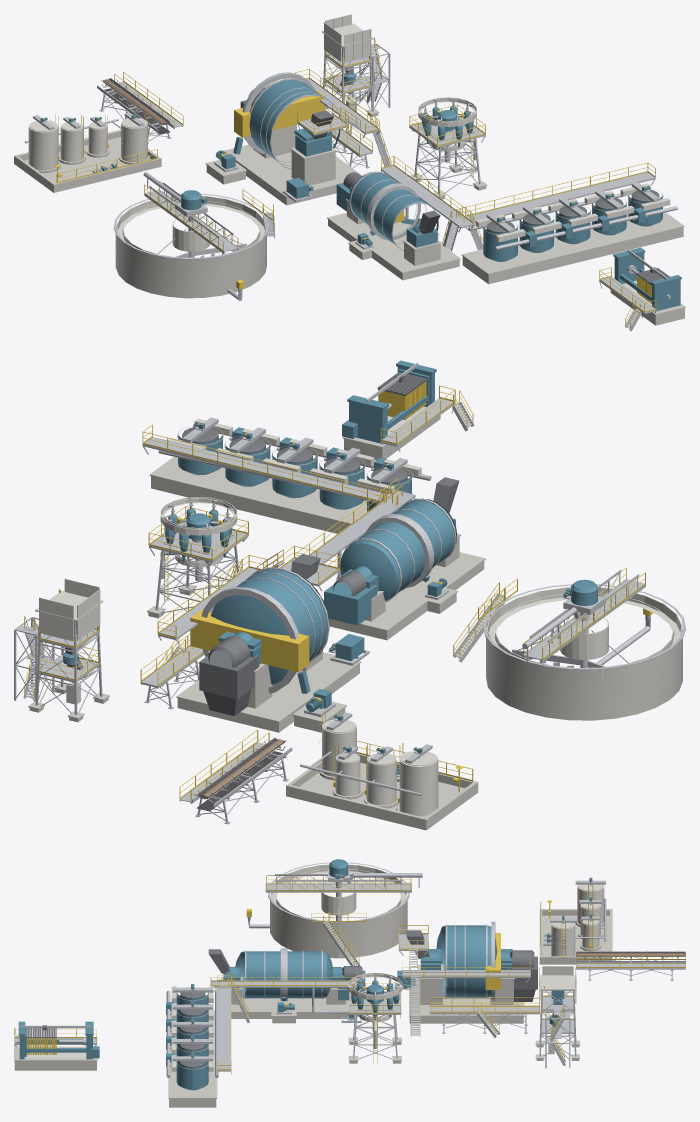
File: ore-processing-and-haulage-plant-milling-and-separatio-2b5e0eff.glb
3 views of the same model, one above another, from view 1: azimuth 30°, elevation 25°; view 2: azimuth 150°, elevation 25°; view 3: azimuth 270°, elevation 25° (orthographic). The views are drawn at different scales.
Parts seen in each view (by area): view 1: 003-thickener-tank/0, 000-sag-mill/0, 004-flotation-cell-bank/0, 004-flotation-cell-bank/2, 006-reagent-tank-farm/1, 001-ball-mill/0, 000-sag-mill/mill-shell (×2), 001-ball-mill/mill-shell (×2), 004-flotation-cell-bank/1, 003-thickener-tank/rake-bridge (×3), 006-reagent-tank-farm/0, 002-cyclone-cluster/0 (+27 smaller); view 2: 003-thickener-tank/0, 000-sag-mill/mill-shell (×2), 001-ball-mill/mill-shell (×2), 000-sag-mill/0, 006-reagent-tank-farm/1, 004-flotation-cell-bank/0, 004-flotation-cell-bank/2, 003-thickener-tank/rake-bridge (×3), 006-reagent-tank-farm/0, 001-ball-mill/0, 007-sample-tower/0, 000-sag-mill/4 (+27 smaller); view 3: 003-thickener-tank/0, 001-ball-mill/mill-shell (×2), 000-sag-mill/mill-shell (×2), 003-thickener-tank/rake-bridge (×3), 004-flotation-cell-bank/2, 000-sag-mill/0, 001-ball-mill/0, 006-reagent-tank-farm/1, 004-flotation-cell-bank/1, 000-sag-mill/5, 006-reagent-tank-farm/0, 007-sample-tower/0 (+30 smaller).
Part boxes in pixels (box(x1,y1,x2,y2)): 003-thickener-tank/0: box(115, 234, 266, 298); 000-sag-mill/0: box(205, 124, 362, 205); 004-flotation-cell-bank/0: box(461, 212, 684, 284); 004-flotation-cell-bank/2: box(443, 172, 677, 251); 006-reagent-tank-farm/1: box(28, 118, 147, 170); 001-ball-mill/0: box(327, 199, 460, 280); 000-sag-mill/mill-shell (×2): box(242, 72, 340, 169); 001-ball-mill/mill-shell (×2): box(349, 171, 438, 250); 004-flotation-cell-bank/1: box(483, 186, 662, 261); 003-thickener-tank/rake-bridge (×3): box(144, 181, 247, 257); 006-reagent-tank-farm/0: box(14, 129, 161, 192); 002-cyclone-cluster/0: box(409, 98, 485, 194); 003-thickener-tank/0: box(486, 638, 682, 720); 000-sag-mill/mill-shell (×2): box(201, 567, 329, 693); 001-ball-mill/mill-shell (×2): box(340, 498, 457, 601); 000-sag-mill/0: box(176, 650, 361, 732); 006-reagent-tank-farm/1: box(322, 719, 438, 816); 004-flotation-cell-bank/0: box(149, 456, 367, 538); 004-flotation-cell-bank/2: box(142, 417, 431, 510); 003-thickener-tank/rake-bridge (×3): box(512, 568, 645, 667); 006-reagent-tank-farm/0: box(286, 753, 478, 830); 001-ball-mill/0: box(329, 533, 485, 640); 007-sample-tower/0: box(14, 617, 102, 714); 000-sag-mill/4: box(157, 545, 339, 708); 003-thickener-tank/0: box(270, 901, 407, 958); 001-ball-mill/mill-shell (×2): box(235, 948, 342, 1001); 000-sag-mill/mill-shell (×2): box(436, 921, 510, 1001); 003-thickener-tank/rake-bridge (×3): box(265, 869, 411, 920); 004-flotation-cell-bank/2: box(166, 986, 249, 1077); 000-sag-mill/0: box(409, 964, 524, 1023); 001-ball-mill/0: box(215, 977, 349, 1023); 006-reagent-tank-farm/1: box(551, 880, 604, 956); 004-flotation-cell-bank/1: box(166, 984, 208, 1090); 000-sag-mill/5: box(394, 934, 530, 1036); 006-reagent-tank-farm/0: box(539, 909, 612, 964); 007-sample-tower/0: box(539, 990, 576, 1068).
Bounding box in the file's own units: 54.2 × 9.82 × 73.61.
